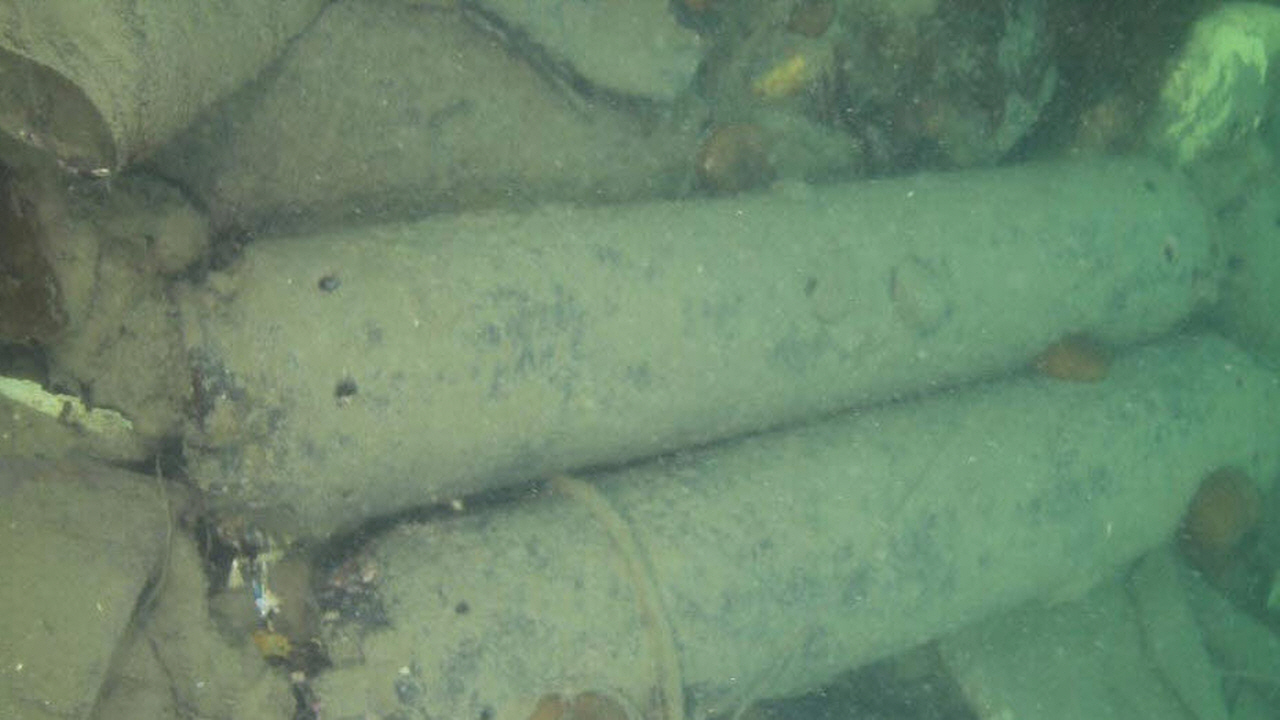eel fish trap: (179, 159, 1225, 541), (317, 328, 1280, 720)
rope: (540, 466, 694, 720)
